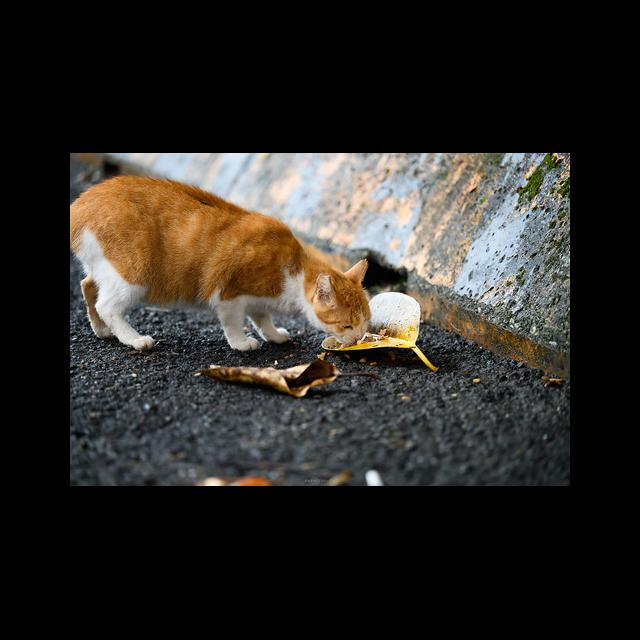animals: (70, 176, 373, 351)
